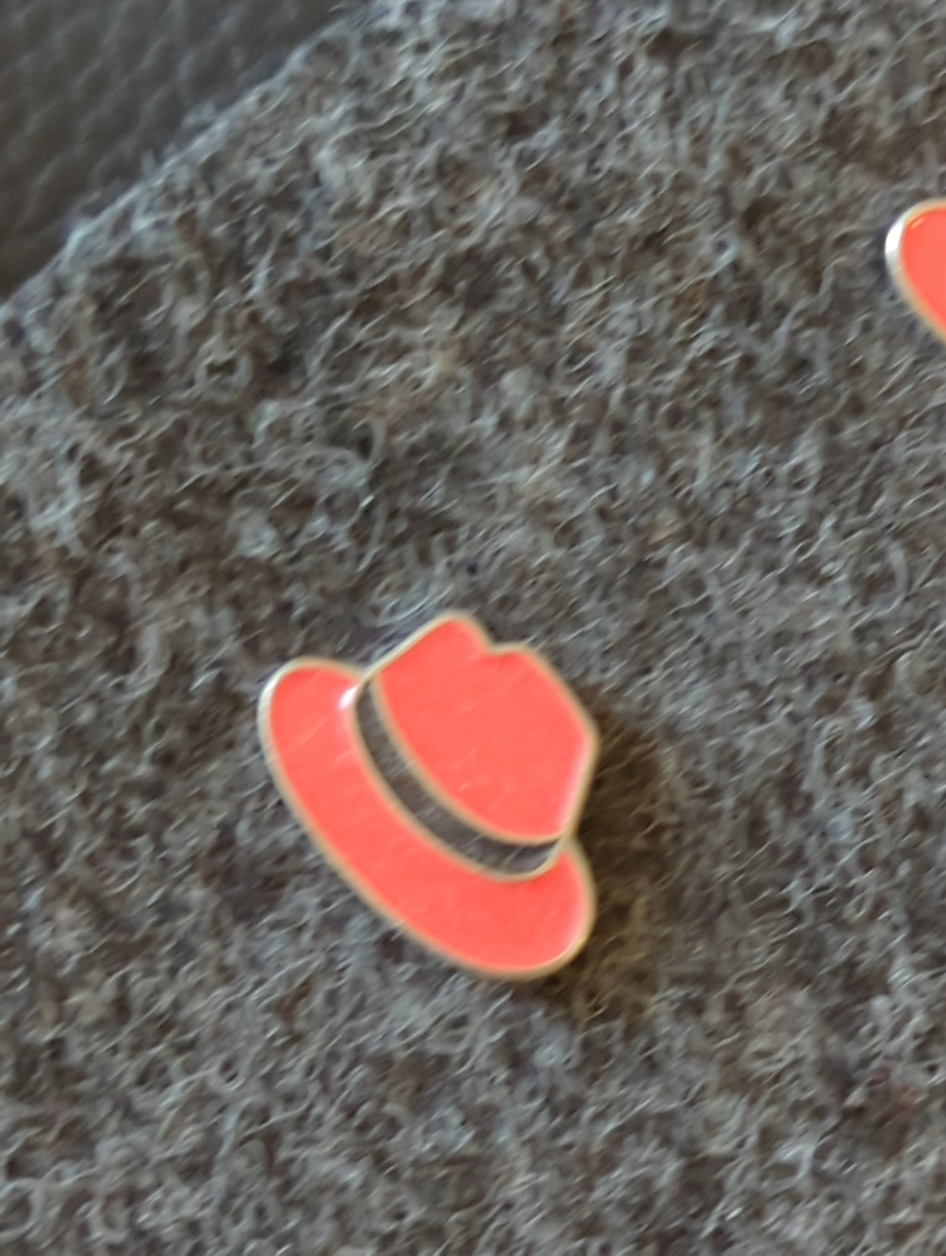Red-Hat: (187, 500, 722, 1049)
